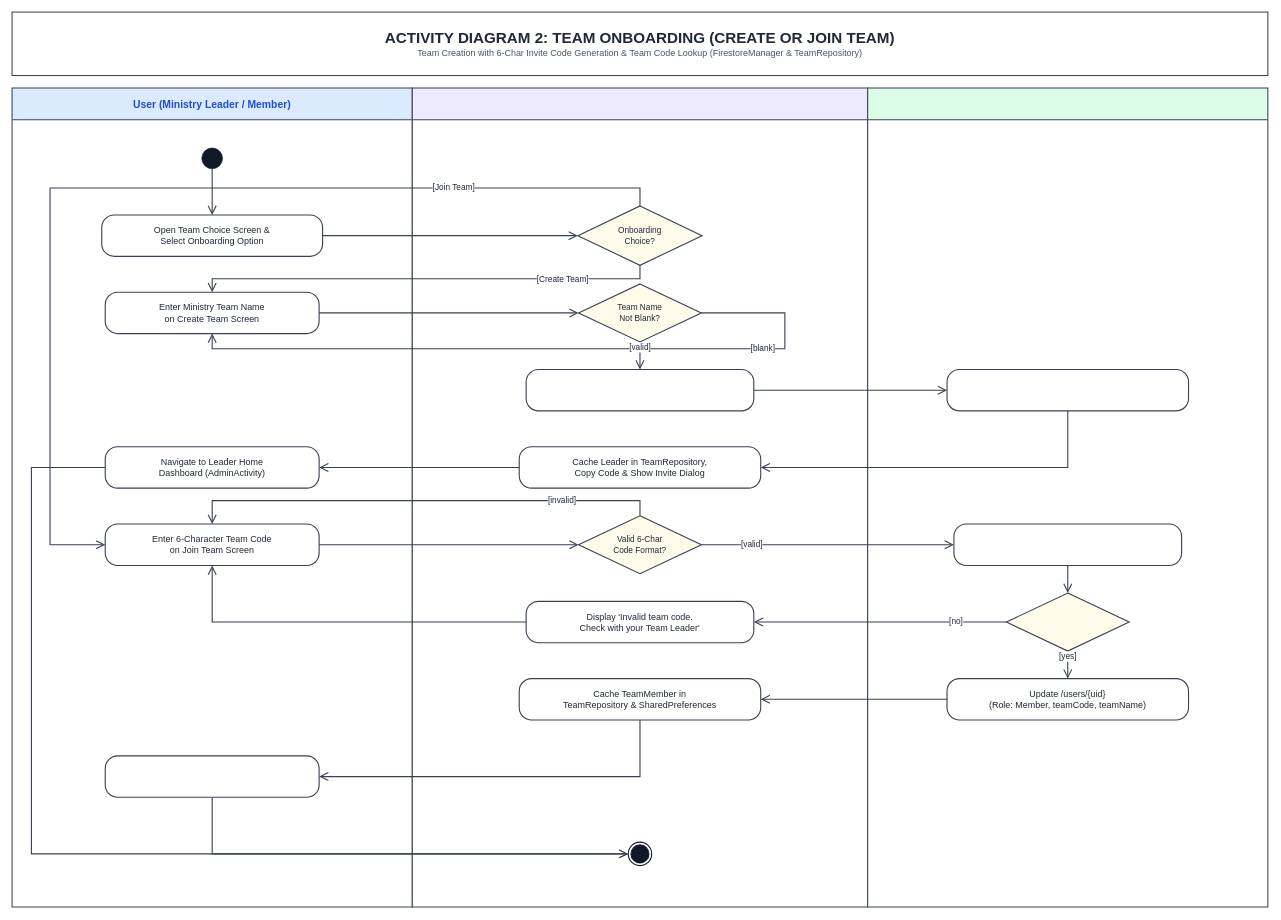
This 1281x920 diagram has some shape labels left out. The box of each missing label's shape, as (x1, y1, x2, y2) in pixels:
Cloud Firestore (/teams/{teamCode} & /users/{uid}): (867, 87, 1268, 907)
Create /teams/{teamCode} & Update /users/{uid} (Role: Leader): (946, 369, 1189, 411)
Generate Unique 6-Character Alphanumeric Invite Code: (525, 369, 754, 411)
Launch Member Home Dashboard (MemberActivity): (104, 755, 319, 798)
Query /teams/{teamCode} (with 1.5s Timeout Guard): (953, 523, 1182, 566)
Synced N Android Application (Onboarding UI & Local Cache): (411, 87, 868, 907)
Team Record Found?: (1005, 592, 1129, 651)
